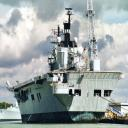Portanaves: (5, 7, 124, 124)
